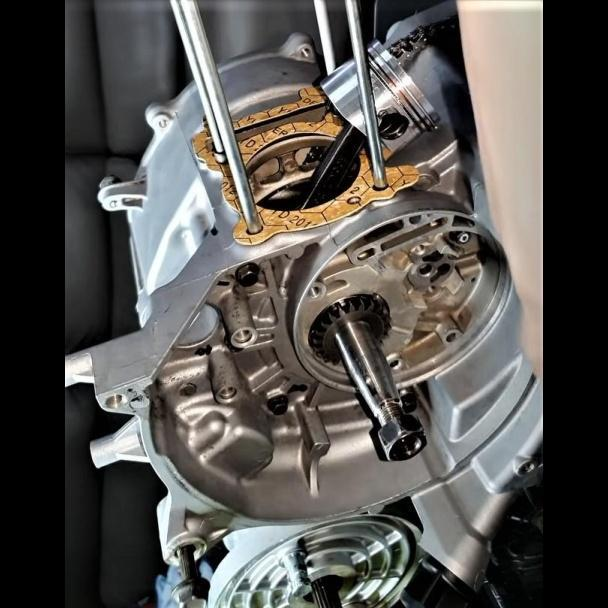hole: (231, 324, 258, 349), (213, 384, 242, 403), (102, 390, 127, 410), (304, 281, 326, 301)
